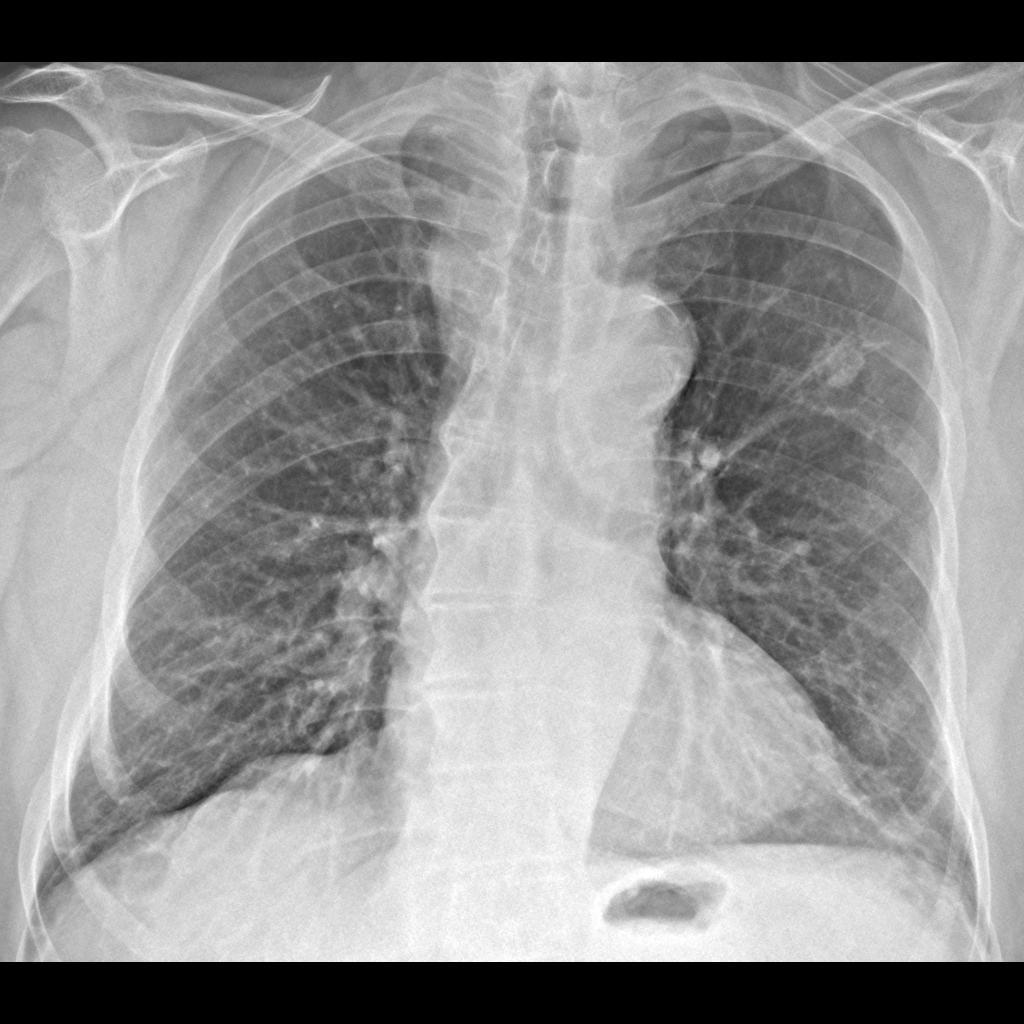Nodule: (802, 327, 875, 401)
